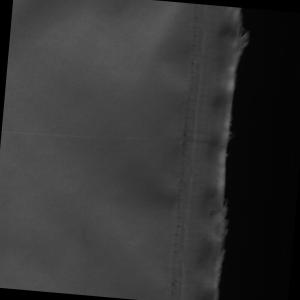Damage: (196, 7, 261, 300)
